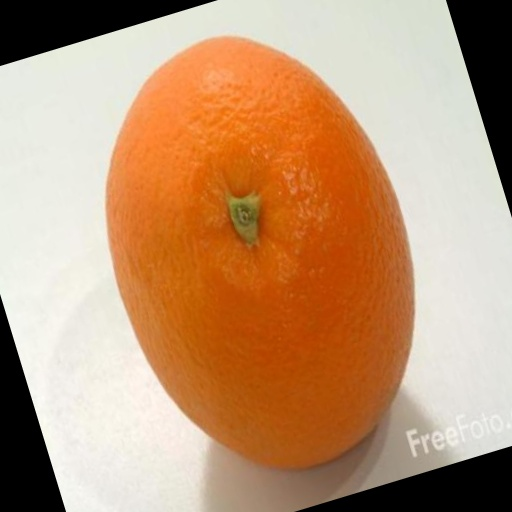fruit: (34, 171, 258, 512)
